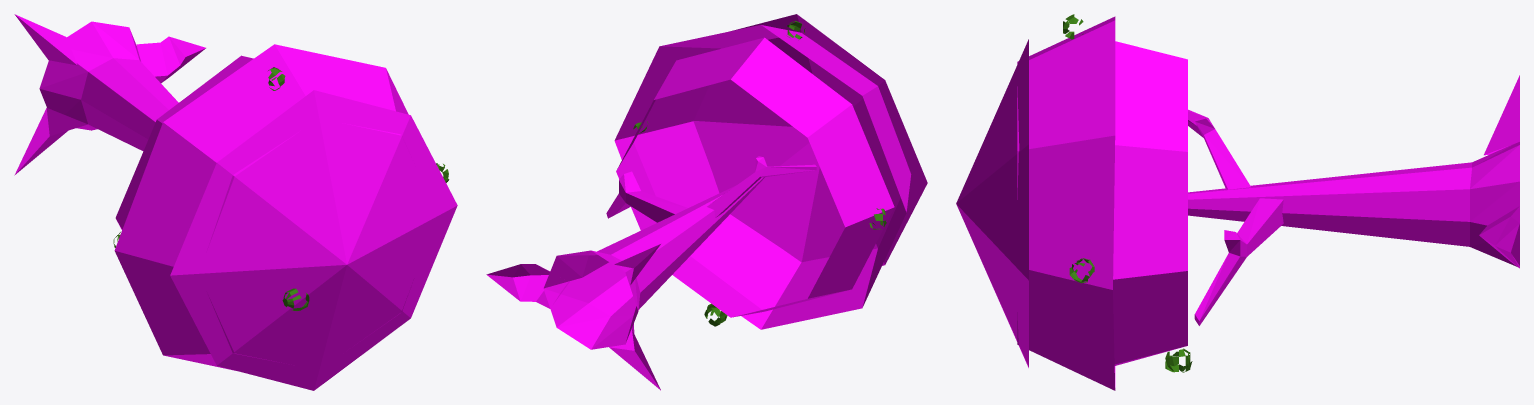
Rendered from 4_mature_partial.obj.
3 views of the same model, side by side, from view 1: azimuth 30°, elevation 25°; view 2: azimuth 150°, elevation 25°; view 3: azimuth 270°, elevation 25° (orthographic). The views are drawn at different scales.
Parts seen in each view (by area): view 1: lime_4_partial; view 2: lime_4_partial; view 3: lime_4_partial.
Part boxes in pixels (x1,y1,x2,y2): lime_4_partial: (14, 14, 457, 390); lime_4_partial: (486, 14, 927, 390); lime_4_partial: (956, 14, 1519, 390).
Bounding box in the file's own units: 1.79 × 1.78 × 2.48.
